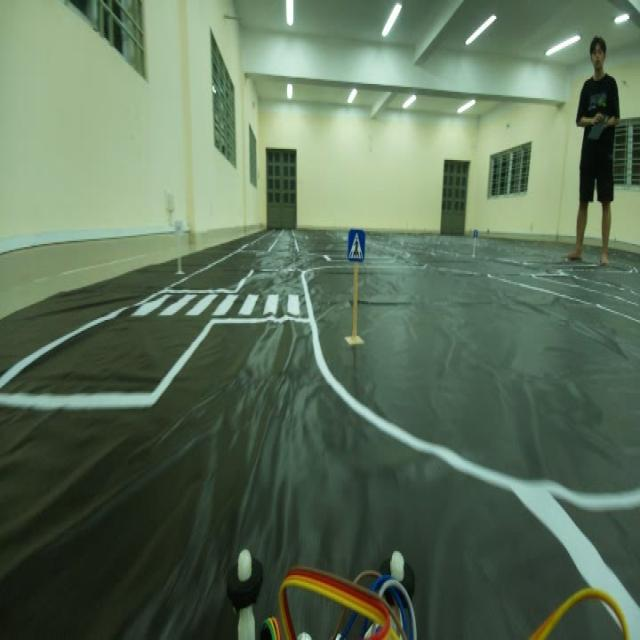crosswalk: (346, 220, 370, 268)
